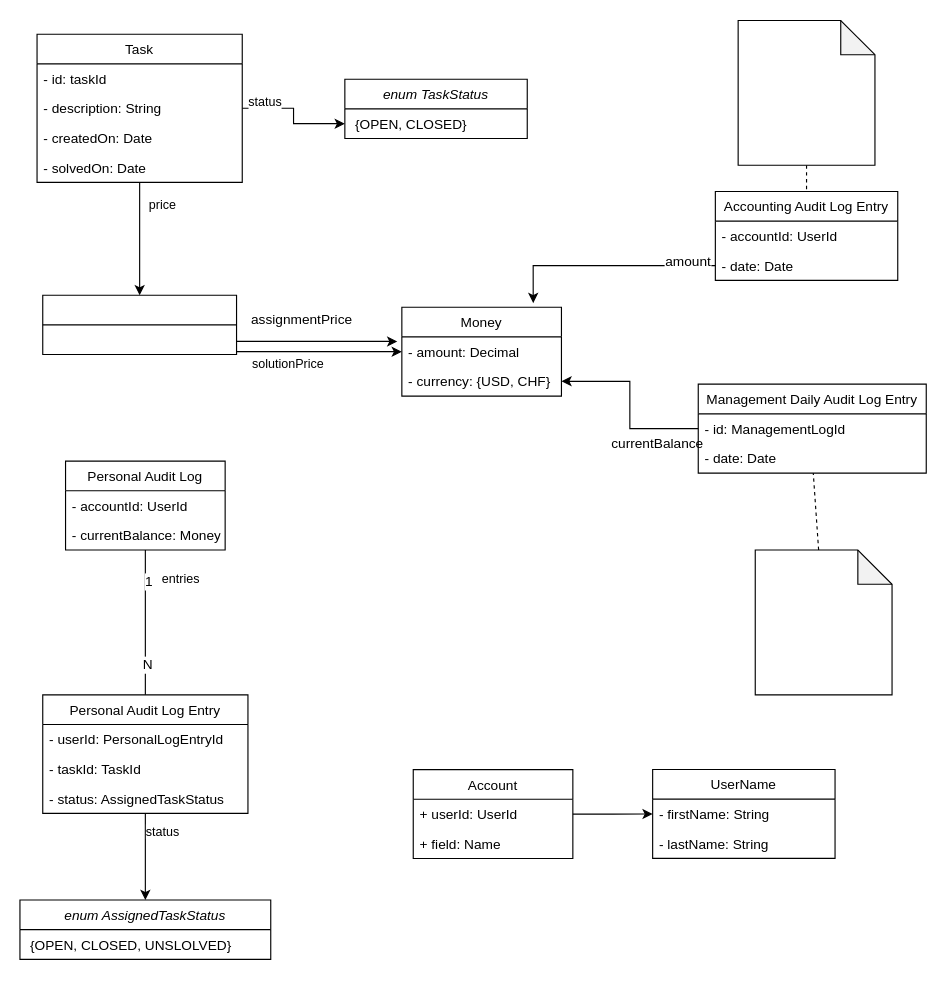
Some shapes in this 946 by 982 pixel diagram are drawn without their labels. The centre of each missing label's shape, as x and y in pixels:
Each entry depicts total amount of money earned by top management during the day: the point at 823,622
Each entry depicts total amount of money paid to users at the end of the day: the point at 806,92
TaskPrice: the point at 139,324
